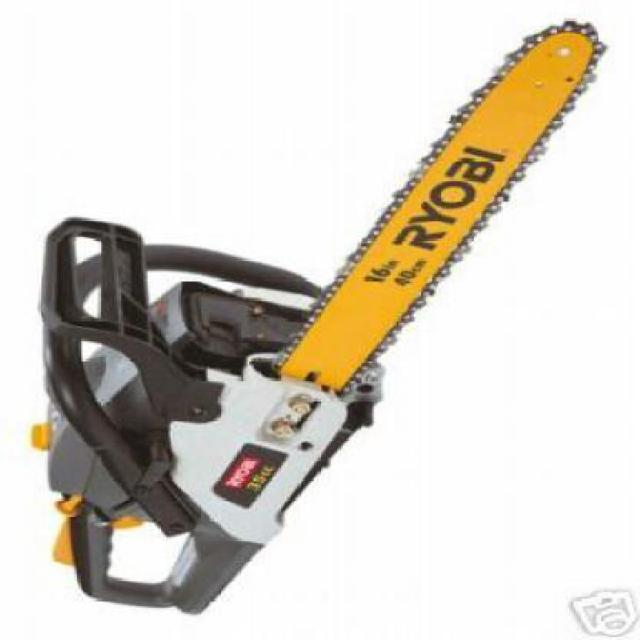Chainsaw: (37, 8, 618, 623)
